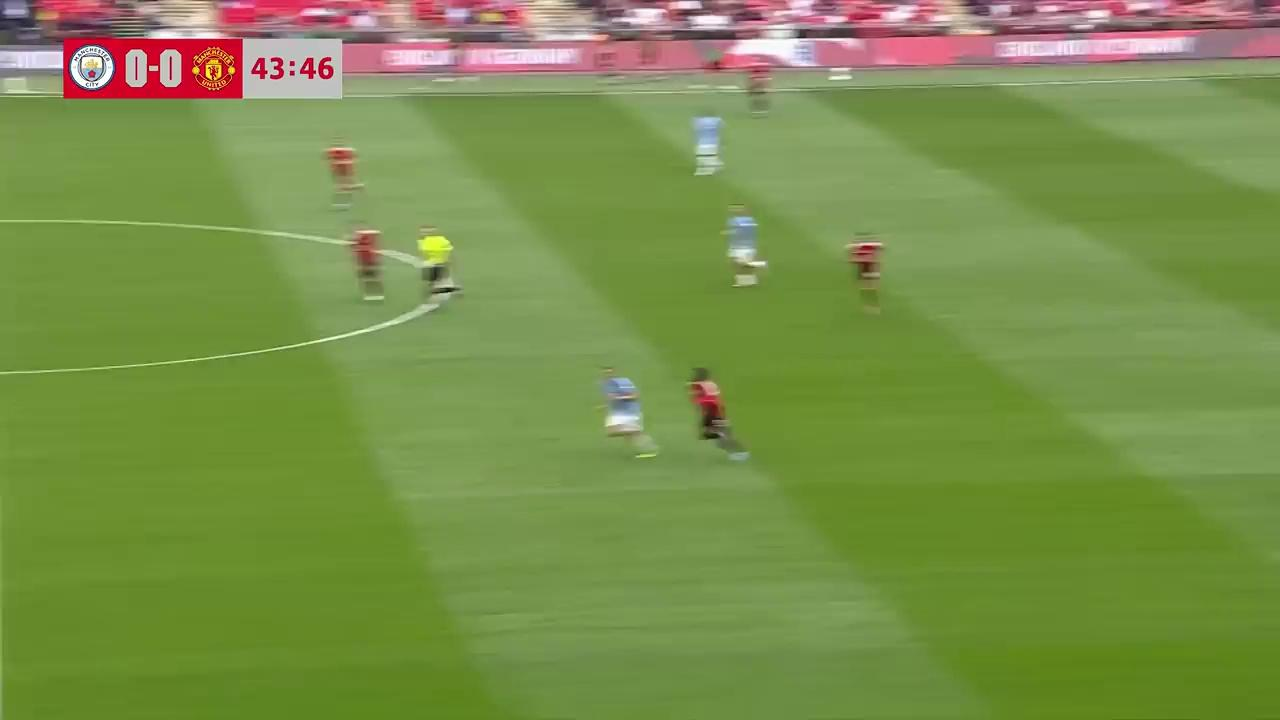player: (685, 367, 751, 454), (596, 364, 656, 448), (719, 205, 768, 287), (842, 233, 886, 315), (343, 224, 387, 301), (691, 111, 725, 176), (322, 142, 363, 195), (744, 58, 774, 102)
referee: (412, 226, 463, 307)
